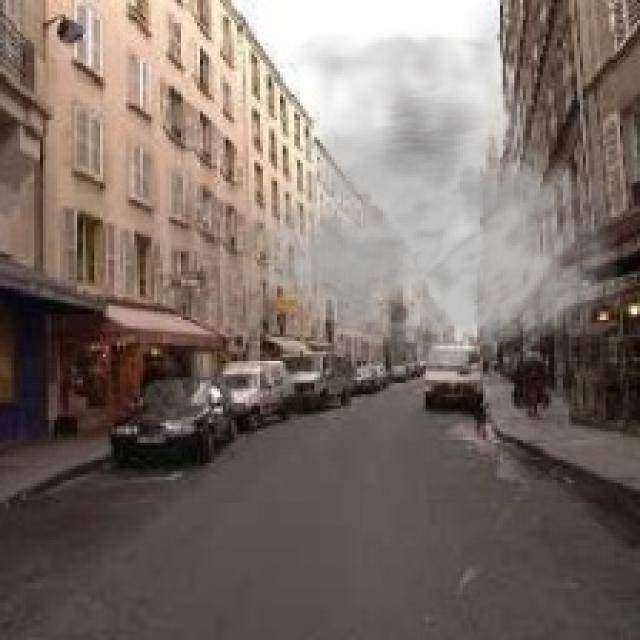smoke: (223, 0, 631, 369)
